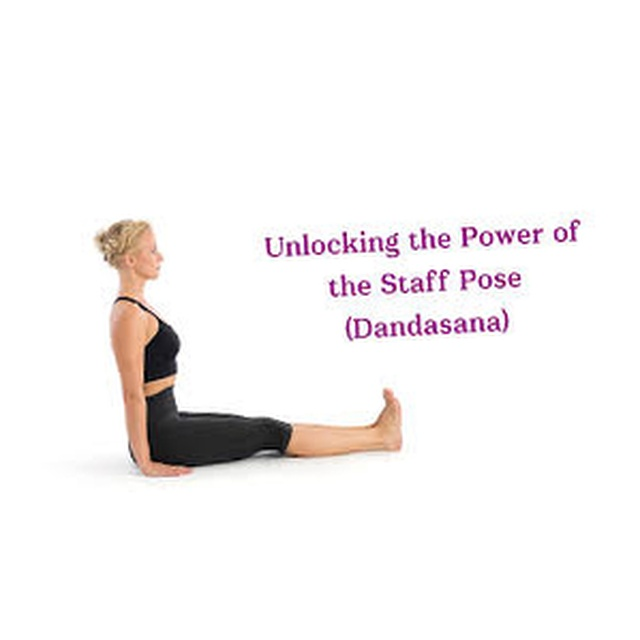Staff_Pose: (94, 219, 404, 479)
